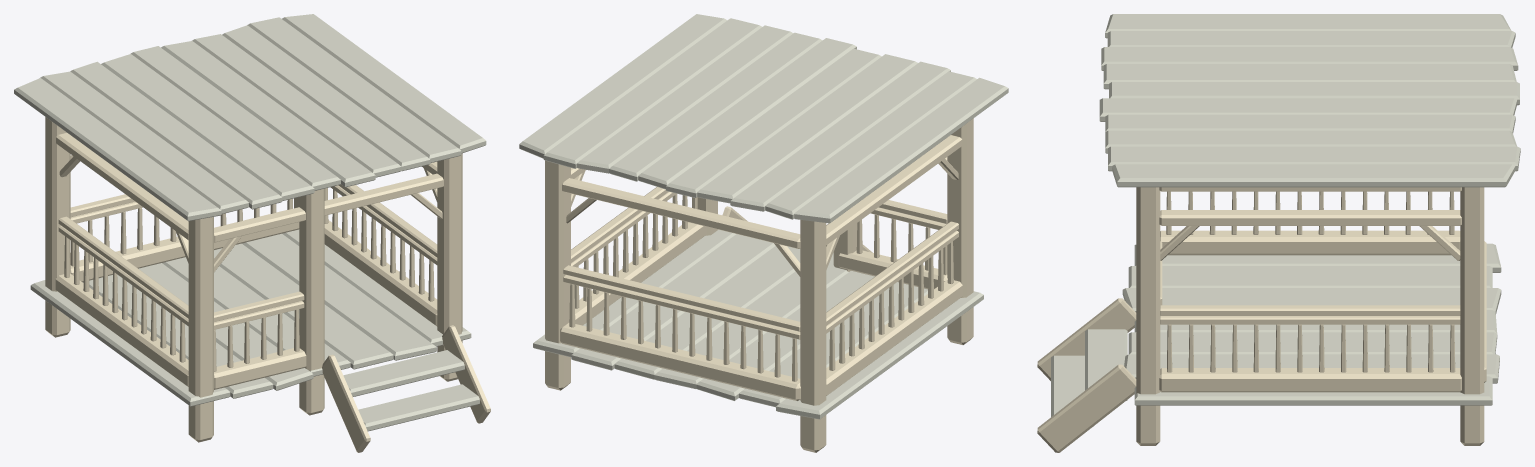
File: farmstractures_07.gltf
3 views of the same model, side by side, from view 1: azimuth 30°, elevation 25°; view 2: azimuth 150°, elevation 25°; view 3: azimuth 270°, elevation 25° (orthographic). The views are drawn at different scales.
Visible parts, largest first — view 1: blades, body; view 2: blades, body; view 3: blades, body.
Boxes of the visible parts, left/top/right/bottom form: blades: left=14, top=14, right=482, bottom=439; body: left=30, top=136, right=490, bottom=452; blades: left=523, top=14, right=1008, bottom=450; body: left=519, top=138, right=983, bottom=452; blades: left=1099, top=14, right=1519, bottom=443; body: left=1037, top=14, right=1520, bottom=452.
Size of the model in its own units: 3.58 by 2.91 by 4.38.
1 material, 1 textured.
